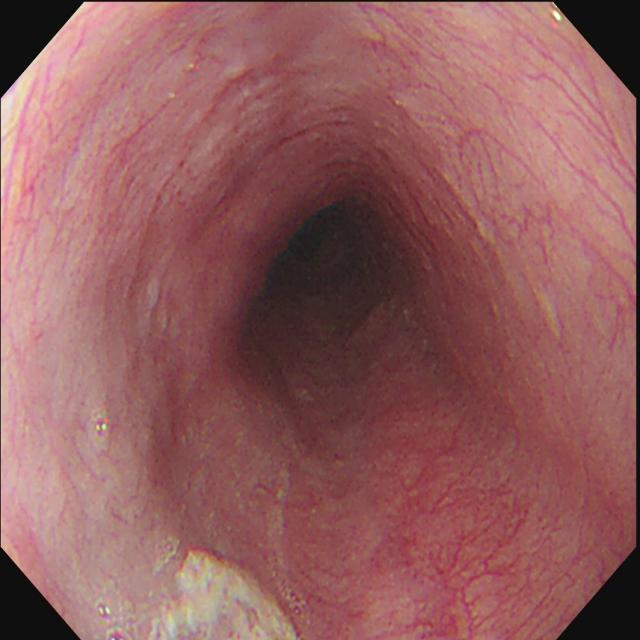E: (272, 186, 370, 279)
J: (149, 548, 298, 640)
